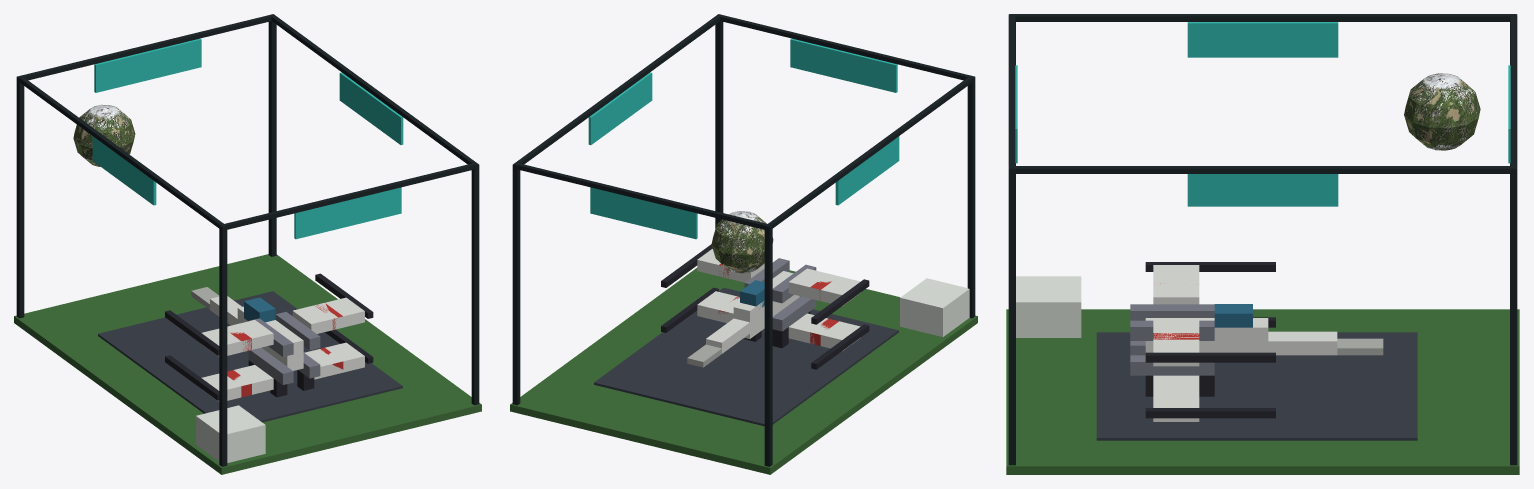
3 renders of one model, left to right at view 1: azimuth 30°, elevation 25°; view 2: azimuth 150°, elevation 25°; view 3: azimuth 270°, elevation 25°, orthographic. The views are drawn at different scales.
Visible parts, largest first — view 1: far; view 2: far; view 3: far.
Part boxes in pixels (x1=…): far: x1=14, y1=14, x2=481, y2=474; far: x1=510, y1=14, x2=977, y2=474; far: x1=1006, y1=14, x2=1519, y2=474.
Size of the model in its own units: 31.5 by 28.55 by 43.5.
1 material, 1 textured.
